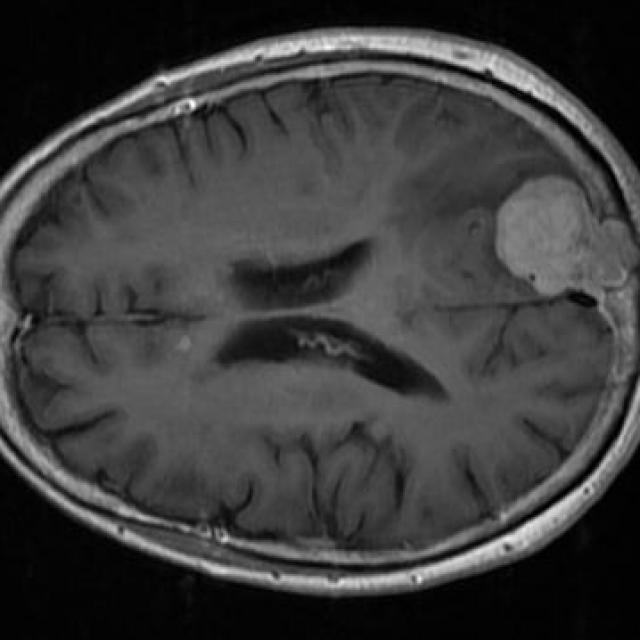meningioma: (496, 176, 638, 296)
